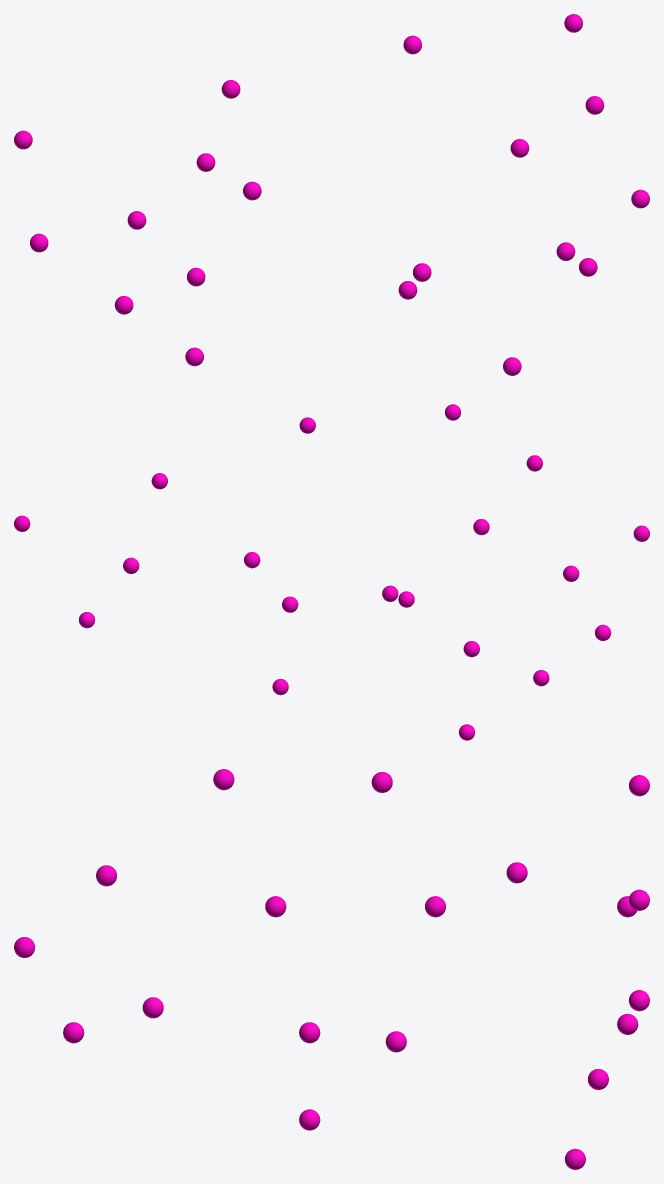
The model's file is main_display_anchor.glb.
3 renders of one model, top to bottom at view 1: azimuth 30°, elevation 25°; view 2: azimuth 150°, elevation 25°; view 3: azimuth 270°, elevation 25°, orthographic. The views are drawn at different scales.
Size of the model in its own units: 25.85 by 5.37 by 22.5.
